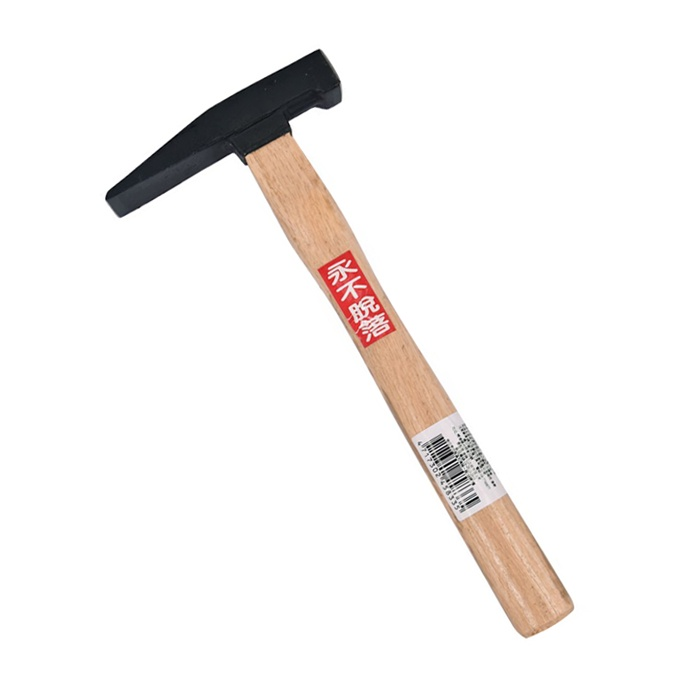hammer: (94, 46, 620, 646)
